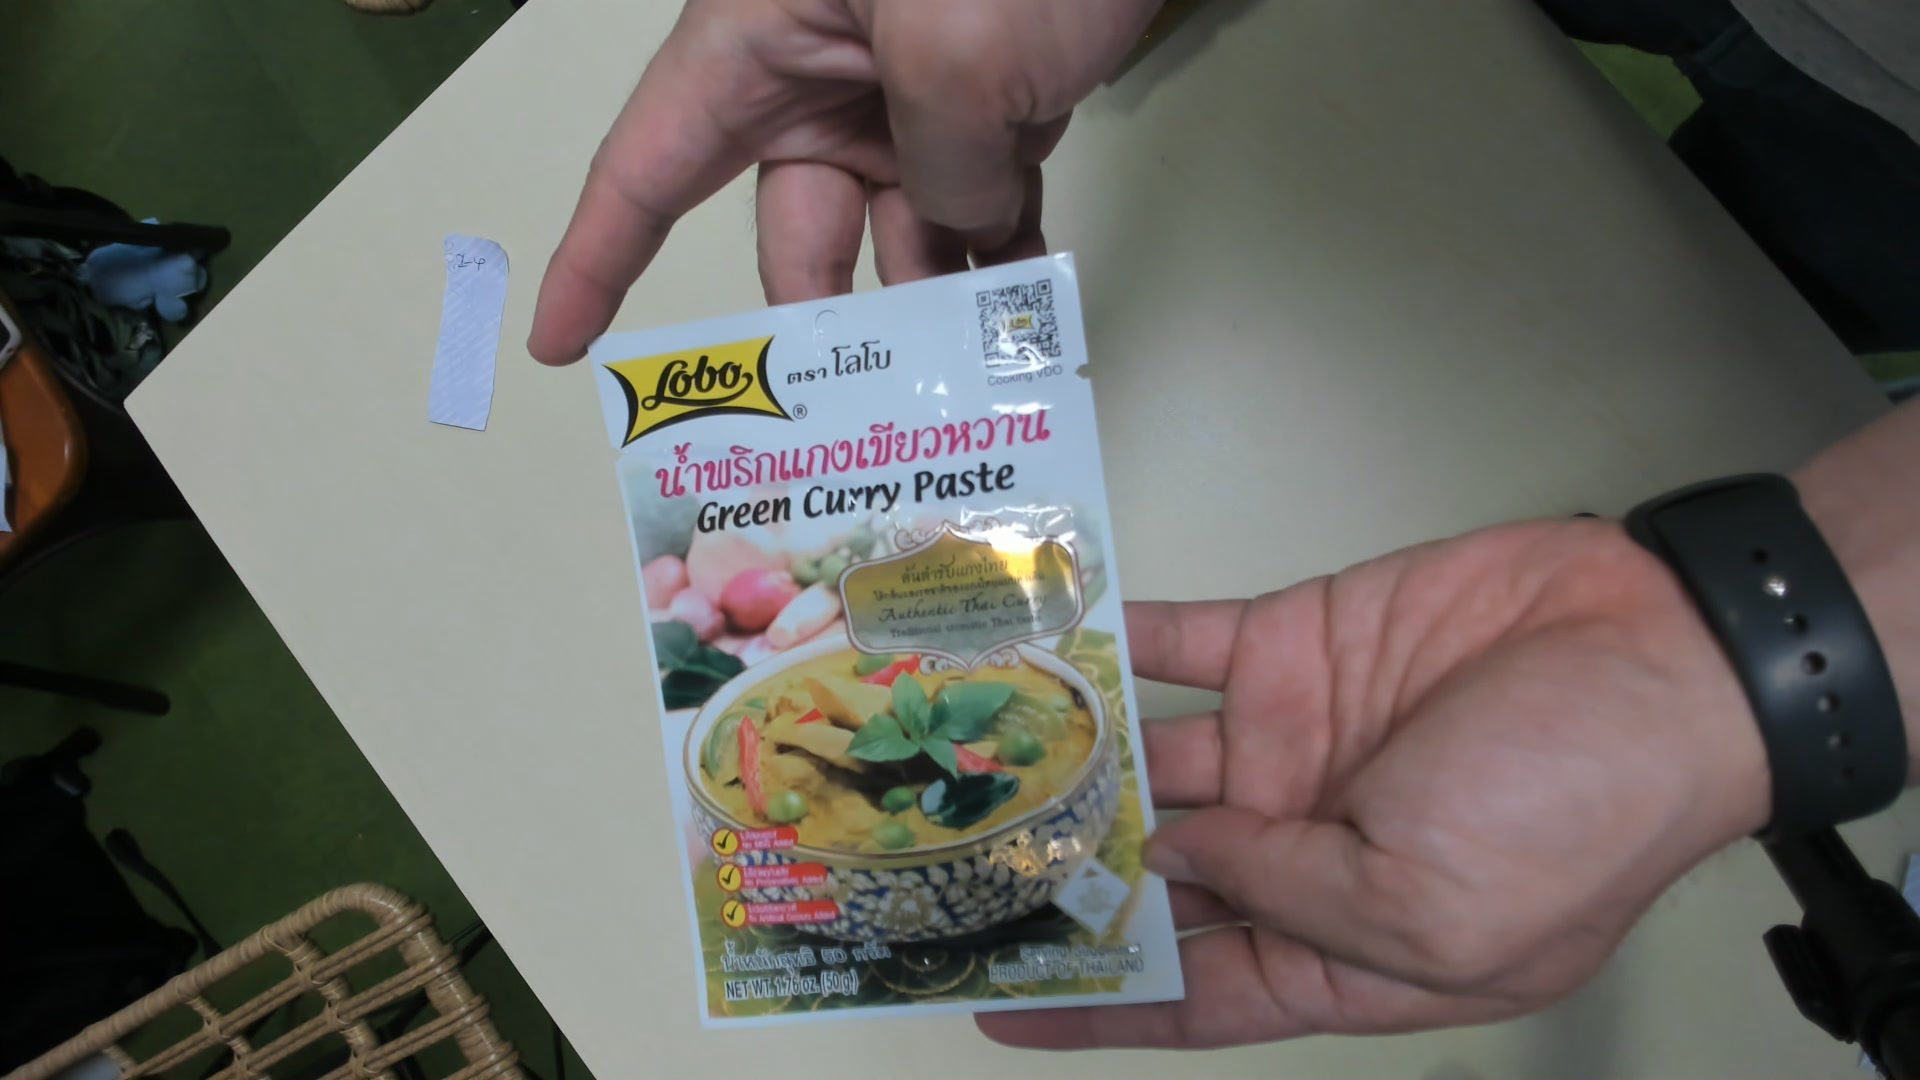OtherSauceDressing_0-99g_Halal_NonHealthy: (578, 245, 1185, 1040)
